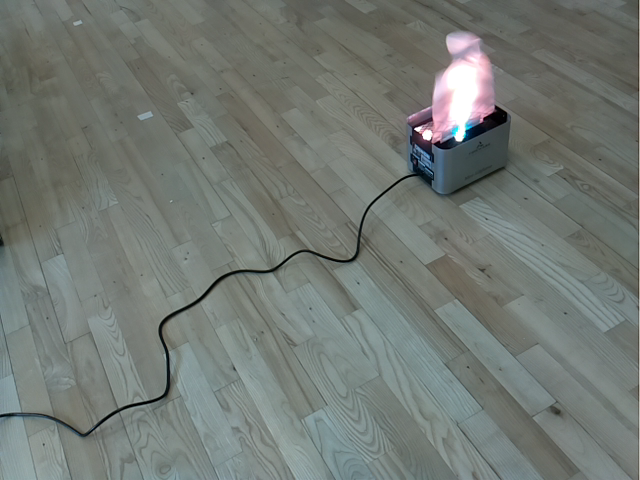fire: (428, 31, 495, 142)
